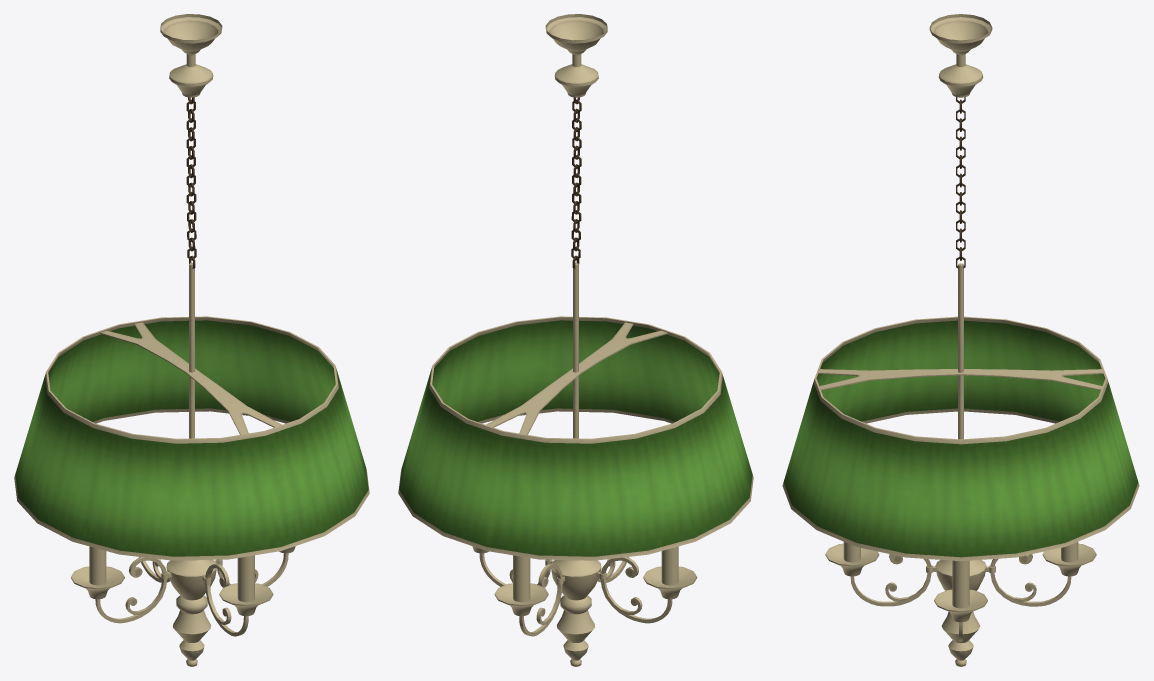
File: chandelier-7058ee.glb
3 views of the same model, side by side, from view 1: azimuth 30°, elevation 25°; view 2: azimuth 150°, elevation 25°; view 3: azimuth 270°, elevation 25° (orthographic).
Parts seen in each view (by area): view 1: PropMesh; view 2: PropMesh; view 3: PropMesh.
Part boxes in pixels (x1=…): PropMesh: x1=14, y1=14, x2=369, y2=666; PropMesh: x1=398, y1=14, x2=753, y2=666; PropMesh: x1=782, y1=14, x2=1139, y2=666.
Bounding box in the file's own units: 0.7087 × 1.4 × 0.7087.
Materials: 1 (1 with a texture image).
